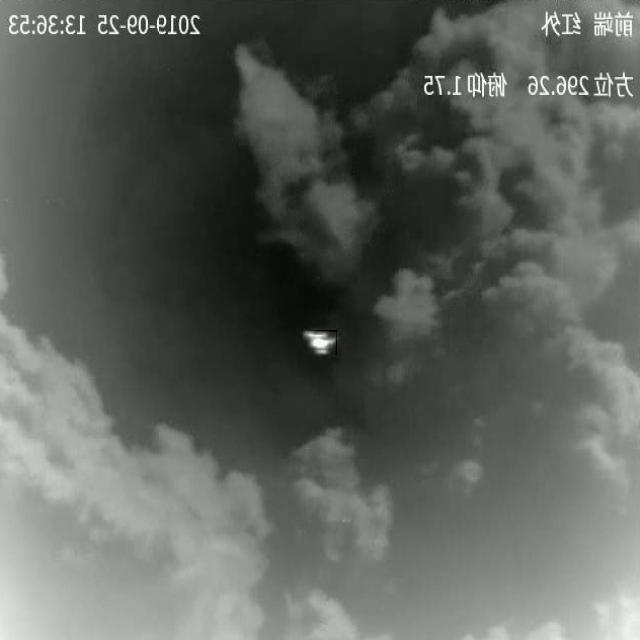drone: (302, 330, 337, 355)
